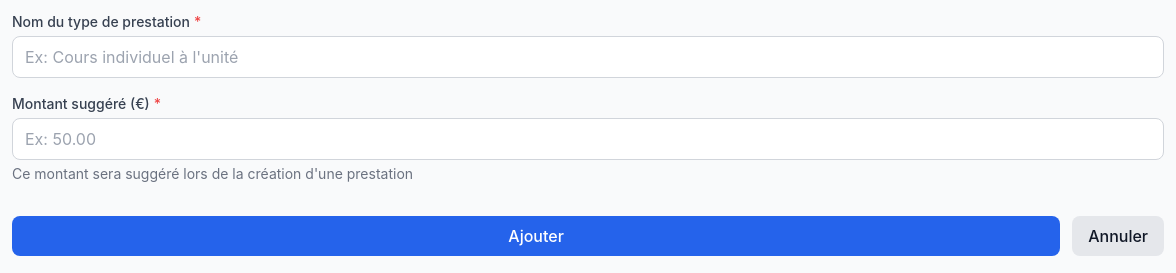
TypePrestationForm › shows error for invalid amount (0 or negative)
In the field: [588, 57] box [12,36,1164,78], type "Cours"
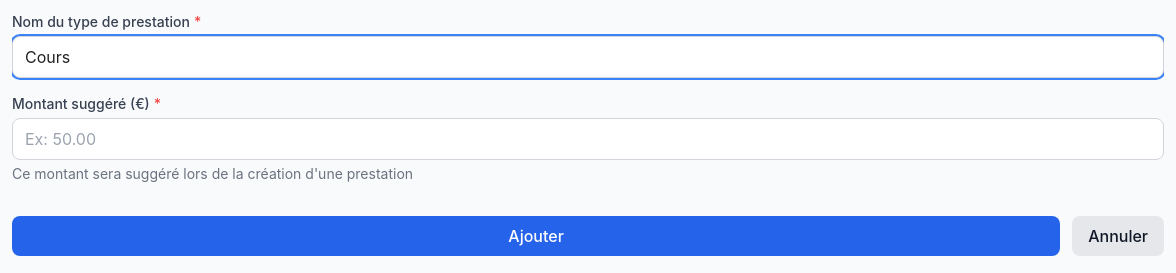
In the number field: [588, 139] box [12,118,1164,160], type "0"
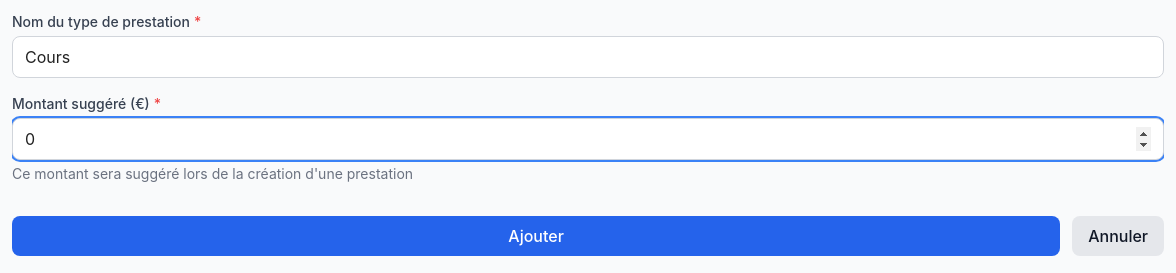
Submit the form
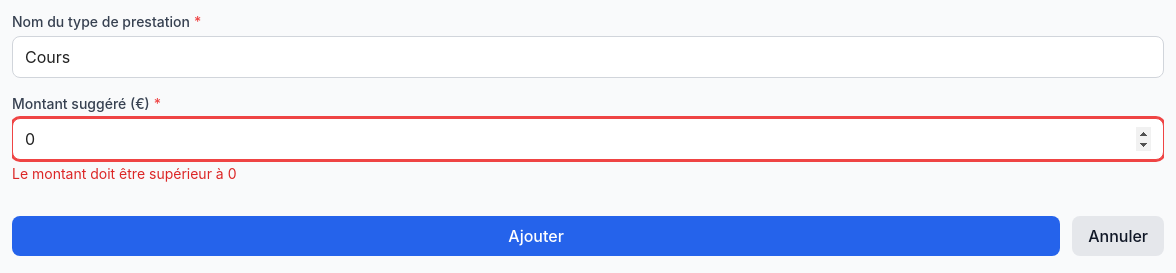
Expected: the text "Le montant doit être supérieur à 0" is shown, [12,165,236,182]
